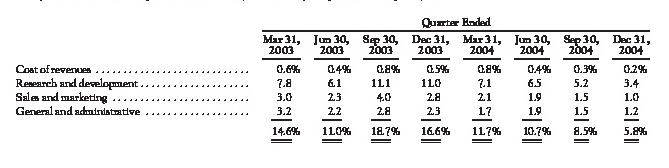table: (0, 0, 669, 168)
